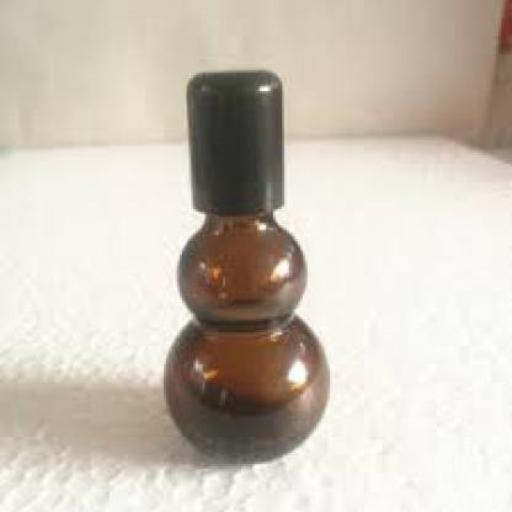glass: (159, 209, 328, 462)
plastic: (184, 70, 282, 217)
